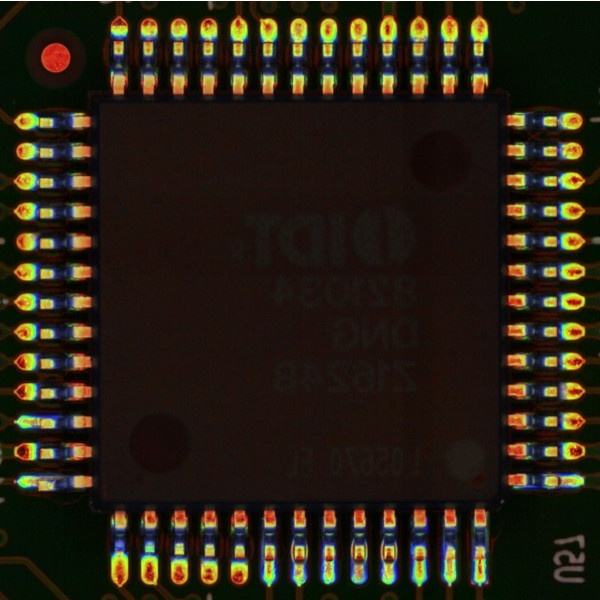Bad_podu: (415, 551, 425, 572), (475, 552, 486, 570), (28, 420, 51, 427), (324, 551, 333, 568), (553, 477, 567, 487), (29, 478, 43, 486), (265, 556, 274, 566)
Bad_qiaojiao: (290, 538, 295, 561), (393, 541, 398, 561), (304, 541, 309, 561), (380, 538, 384, 560), (364, 539, 368, 561), (351, 538, 354, 560)
